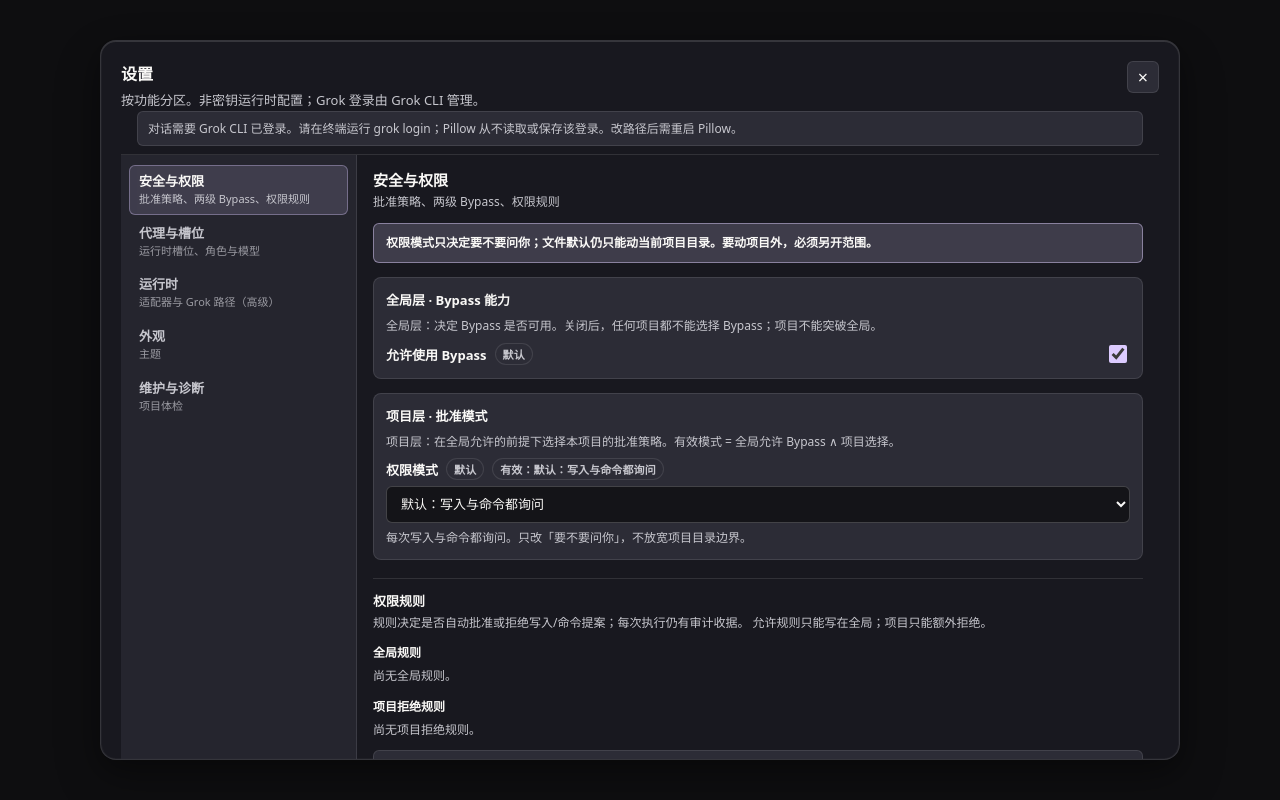
it: Librarian monitoring surface › runs the built-in project health surface inside settings without inventing FAIL
// Diagnostics category hosts the librarian monitor surface.
What coordinates should you click on to do the following:
click the button with test id "settings-nav-diagnostics"
I would click on:
 (238, 397)
Its box is [129,372,348,422].
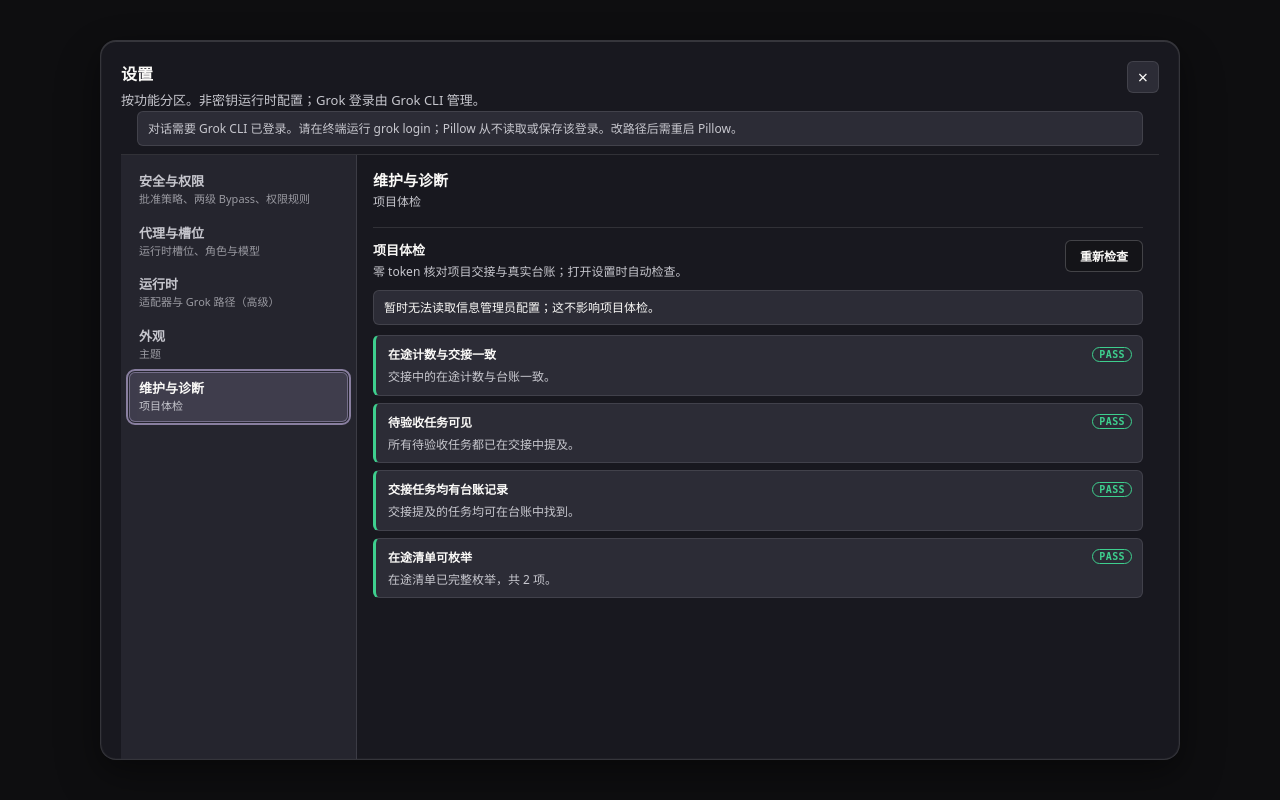
expect the text "PASS" is shown 4 times: met, box [1092,347,1132,362]; [1092,414,1132,429]; [1092,482,1132,497]; [1092,549,1132,564]
